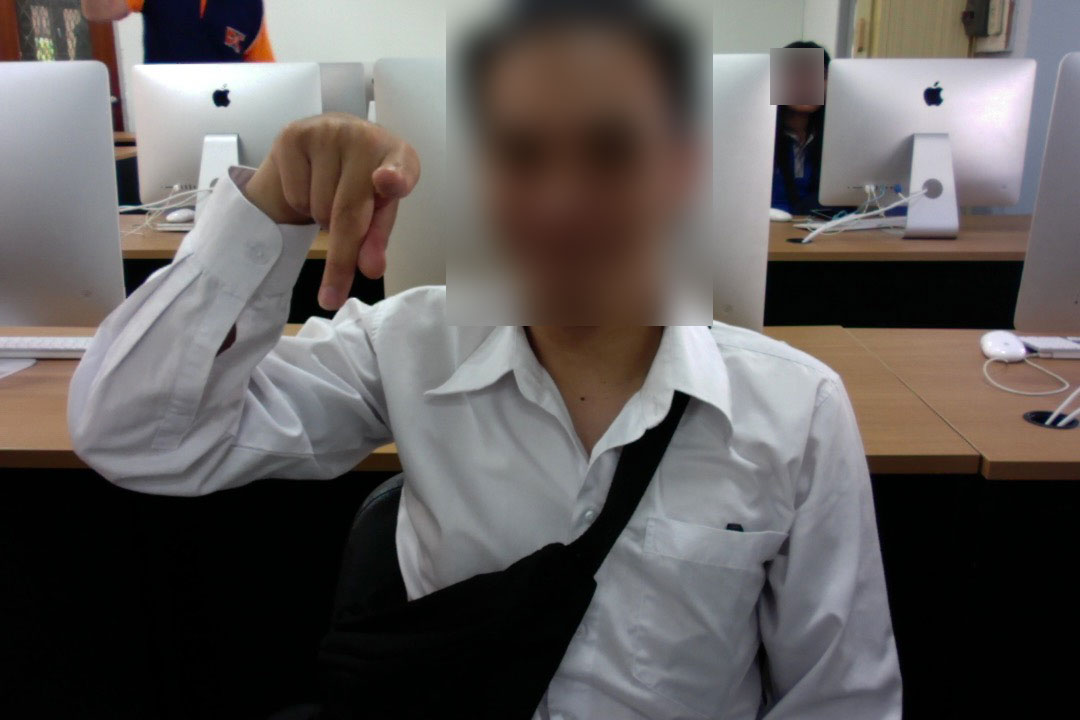por: (265, 102, 424, 317)
